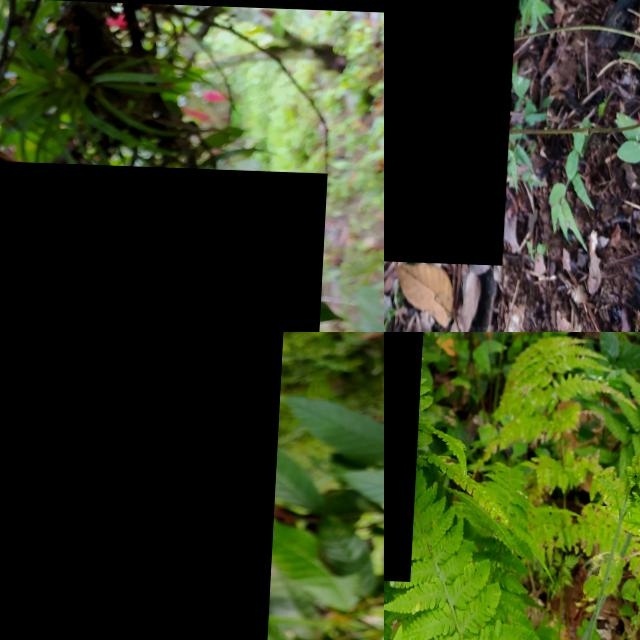Fitoftora: (0, 332, 284, 640)
Monilia: (0, 153, 329, 332), (384, 0, 521, 262)
